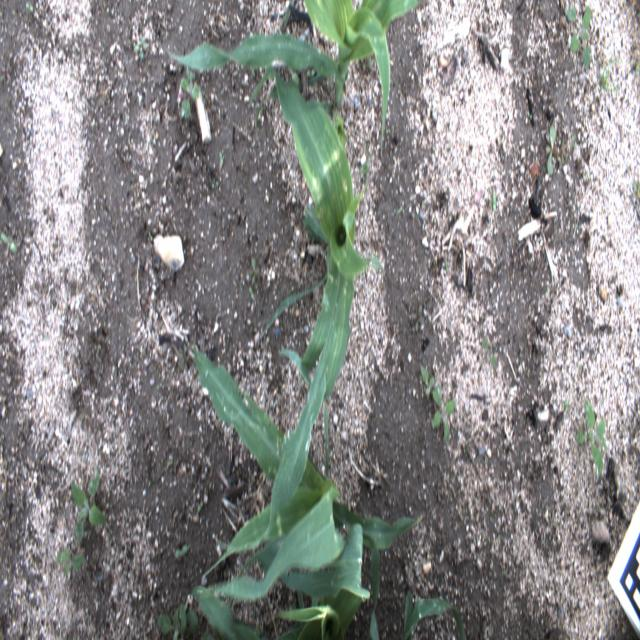crop: (214, 67, 372, 550), (192, 330, 426, 601), (157, 0, 420, 160), (194, 523, 371, 638), (369, 541, 468, 638)
weed: (70, 464, 108, 542), (575, 397, 607, 479), (566, 5, 592, 70), (157, 601, 198, 639), (430, 387, 456, 444), (180, 70, 201, 120), (596, 56, 619, 93), (56, 550, 84, 578), (545, 123, 559, 176), (418, 364, 435, 400), (247, 257, 262, 285), (483, 338, 497, 368), (411, 305, 425, 333), (134, 36, 148, 59), (174, 545, 188, 559)
